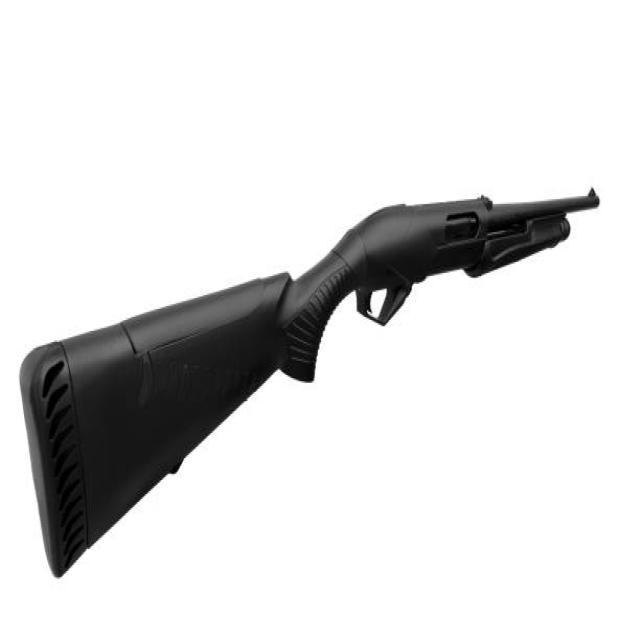rifle: (18, 170, 608, 596)
